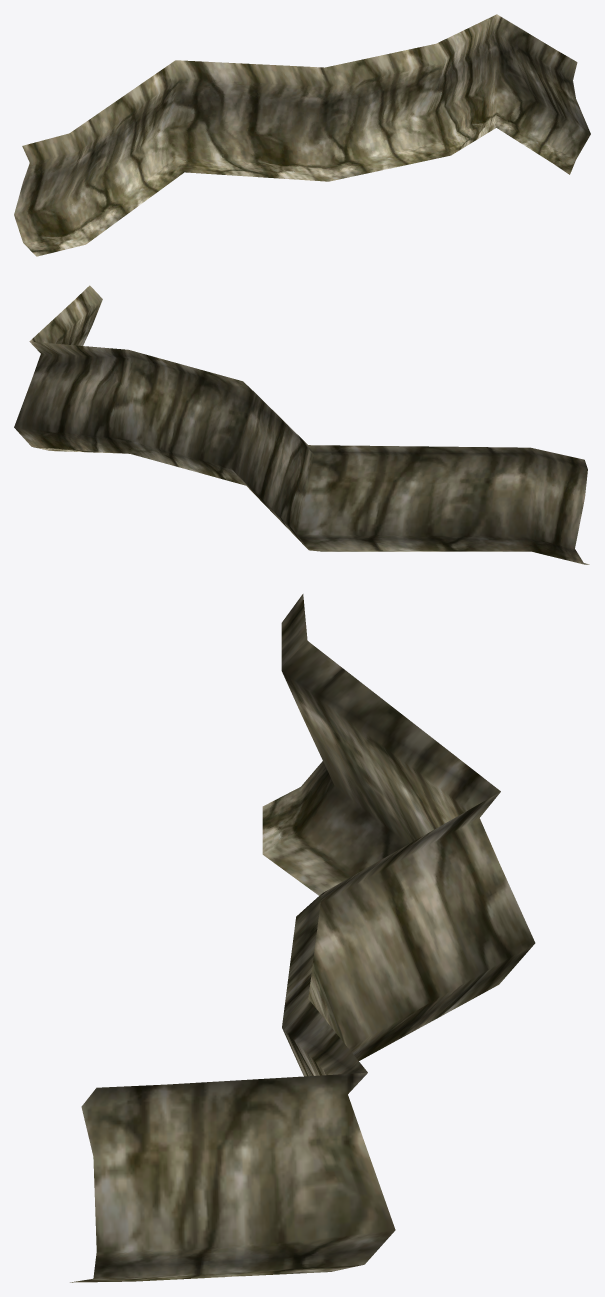
Rendered from CB_NEWPLAYSURFACE_CB_PLAYSURFACE96.fbx.
The picture shows the model from 3 angles, top to bottom: view 1: azimuth 30°, elevation 25°; view 2: azimuth 150°, elevation 25°; view 3: azimuth 270°, elevation 25°; orthographic projection. The views are drawn at different scales.
Parts seen in each view (by area): view 1: CB_NEWPLAYSURFACE_CB_PLAYSURFACE96; view 2: CB_NEWPLAYSURFACE_CB_PLAYSURFACE96; view 3: CB_NEWPLAYSURFACE_CB_PLAYSURFACE96.
Part boxes in pixels (bbox=[...]): CB_NEWPLAYSURFACE_CB_PLAYSURFACE96: bbox=[14, 14, 590, 256]; CB_NEWPLAYSURFACE_CB_PLAYSURFACE96: bbox=[14, 285, 589, 564]; CB_NEWPLAYSURFACE_CB_PLAYSURFACE96: bbox=[70, 594, 535, 1282].
Bounding box in the file's own units: 183411 × 35822 × 71547.
Materials: 2 (2 with a texture image).
